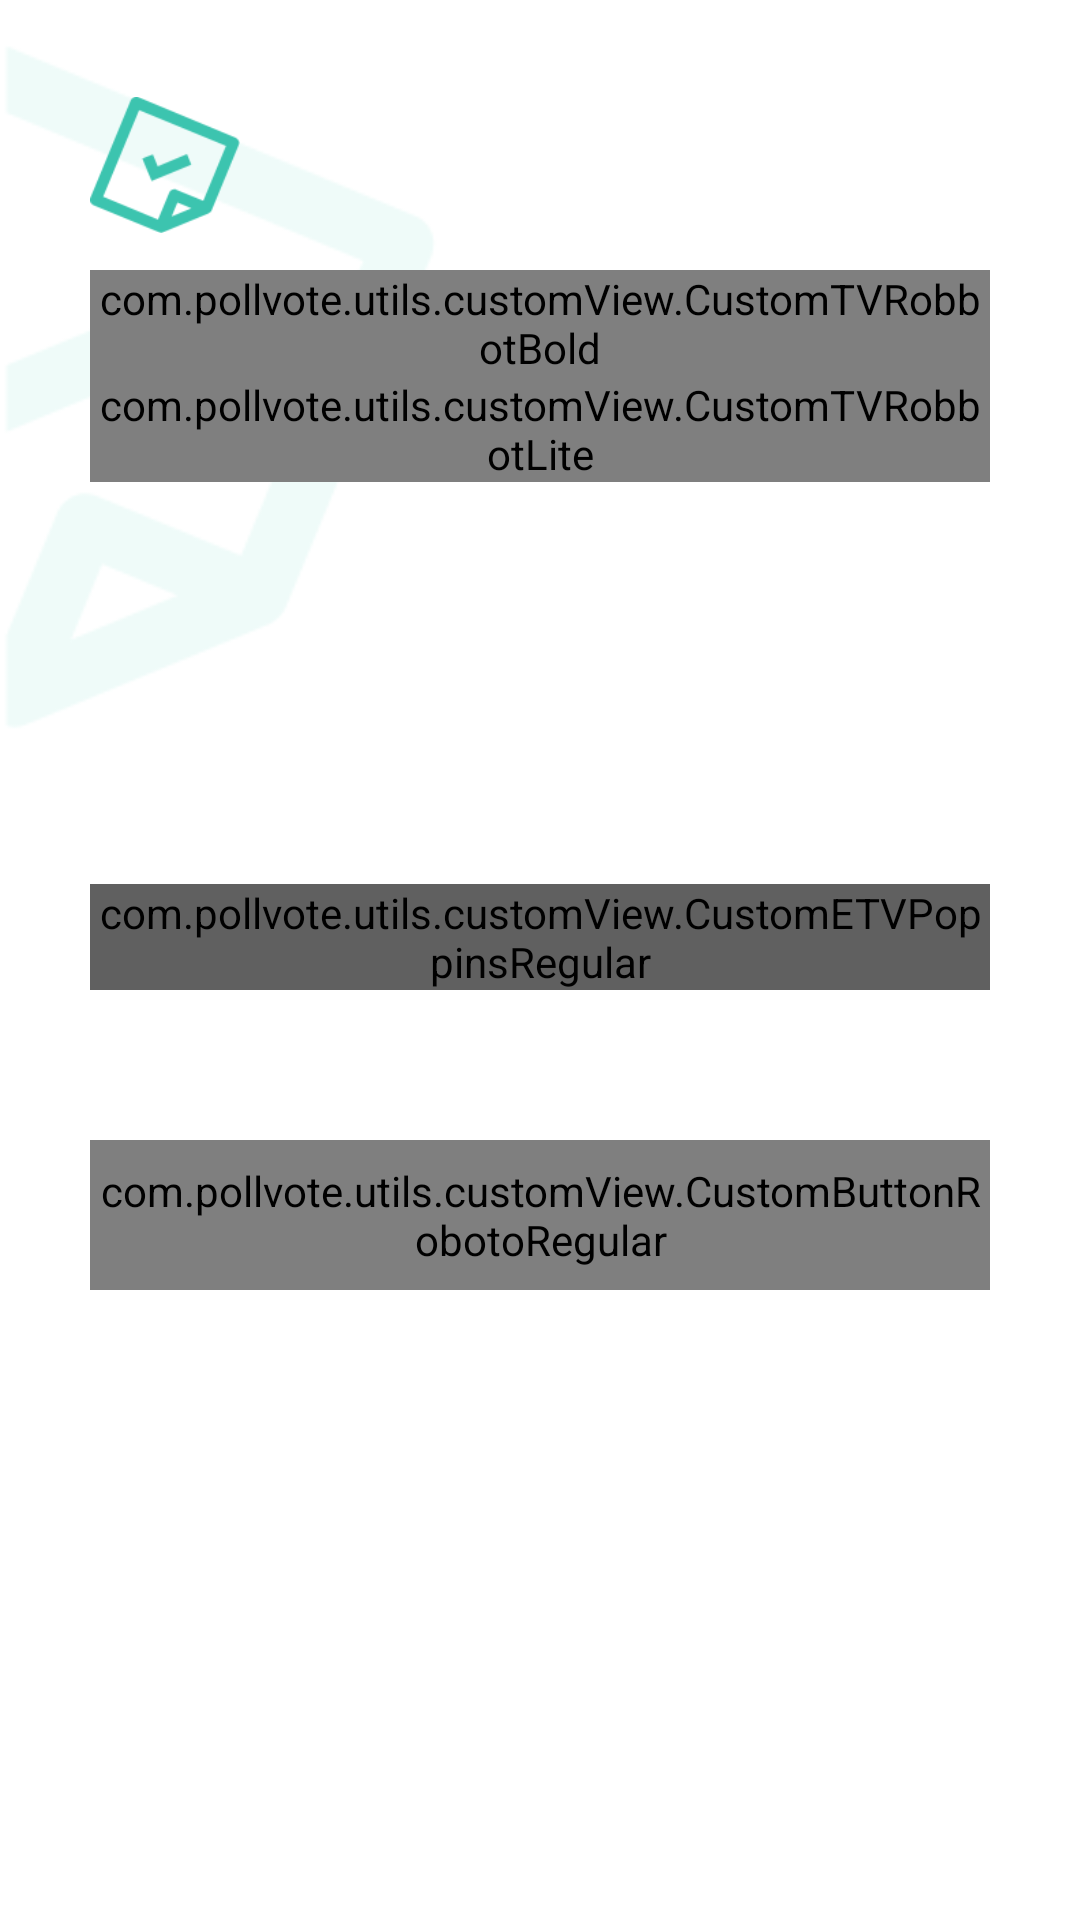

Icon bounding boxes for this 1080 x 1920 phone screenshot, format (x1, y1, x2, y2):
login ok: (90, 97, 240, 233)
